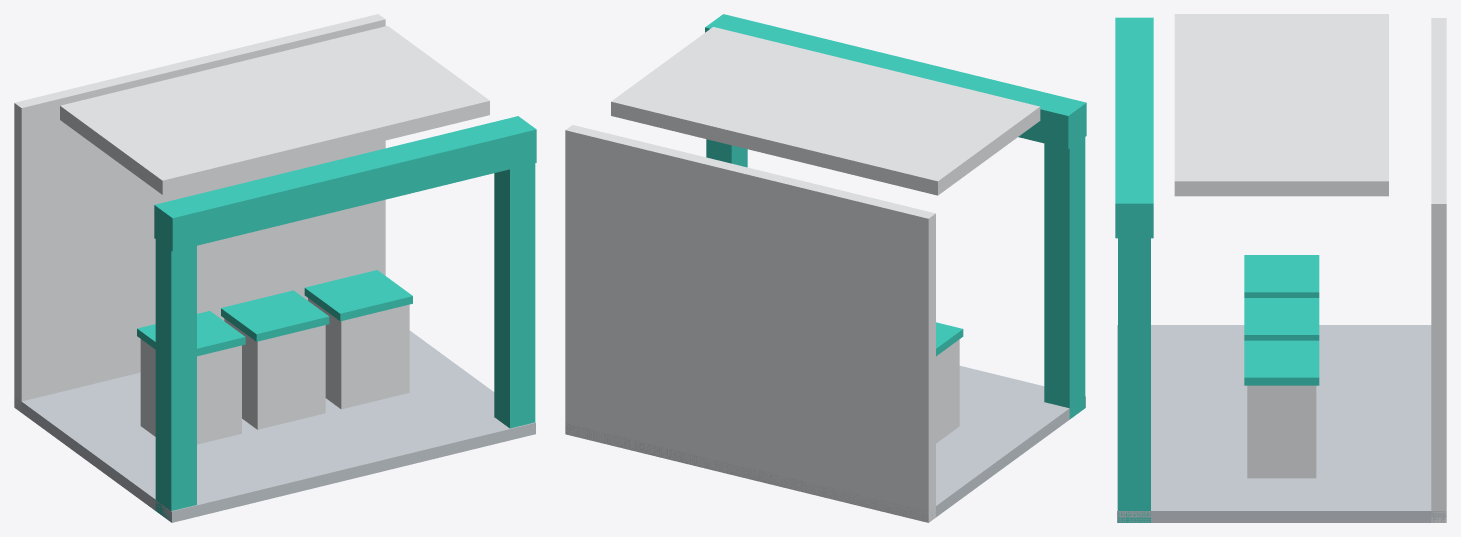
3 renders of one model, left to right at view 1: azimuth 30°, elevation 25°; view 2: azimuth 150°, elevation 25°; view 3: azimuth 270°, elevation 25°, orthographic. The views are drawn at different scales.
Parts seen in each view (by area): view 1: Exhibition Booth Concept; view 2: Exhibition Booth Concept; view 3: Exhibition Booth Concept.
Boxes of the visible parts, x1,y1,x2,y2 form: Exhibition Booth Concept: [14, 14, 536, 522]; Exhibition Booth Concept: [565, 14, 1086, 522]; Exhibition Booth Concept: [1115, 14, 1446, 522].
Bounding box in the file's own units: 4 × 3.34 × 3.01.
